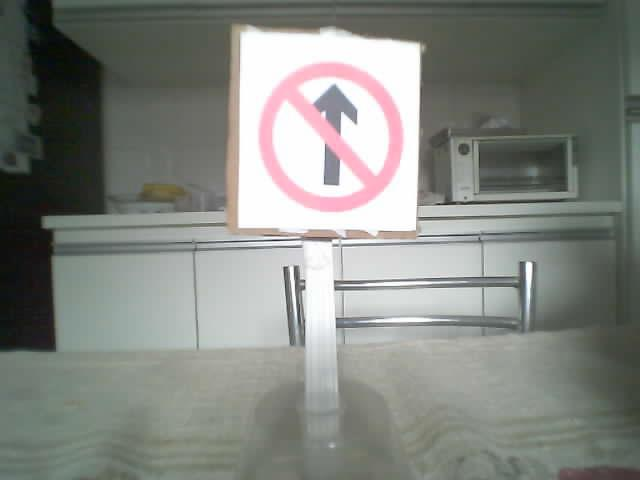R-3_sentido-proibido: (258, 60, 403, 211)
